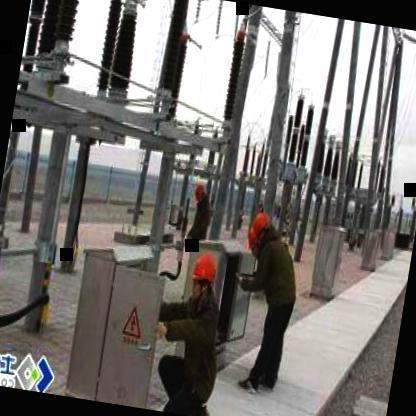helmet: (187, 248, 219, 304), (242, 209, 276, 257), (194, 180, 208, 204)
